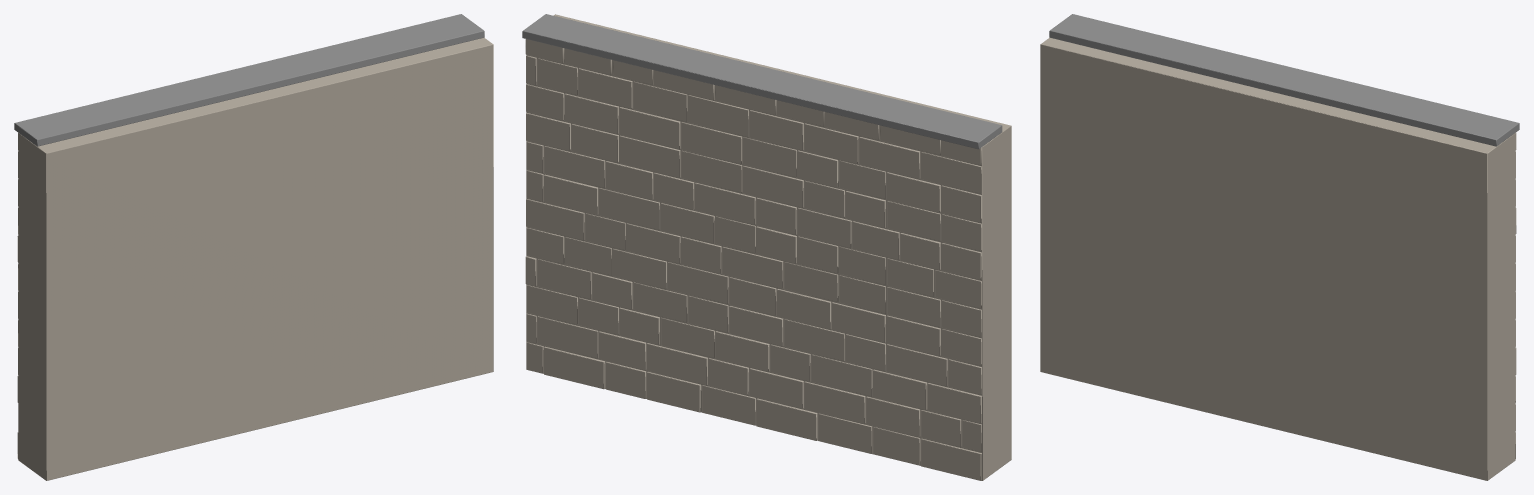
File: SM_VB_QuayWall_10m.fbx
The picture shows the model from 3 angles, left to right: view 1: azimuth 30°, elevation 25°; view 2: azimuth 150°, elevation 25°; view 3: azimuth 330°, elevation 25°; orthographic projection. The views are drawn at different scales.
Visible parts, largest first — view 1: SM_VB_QuayWall_10m; view 2: SM_VB_QuayWall_10m; view 3: SM_VB_QuayWall_10m.
Boxes of the visible parts, x1,y1,x2,y2 form: SM_VB_QuayWall_10m: [14, 14, 493, 480]; SM_VB_QuayWall_10m: [522, 14, 1011, 480]; SM_VB_QuayWall_10m: [1040, 14, 1519, 480].
Size of the model in its own units: 10 by 7.15 by 1.25.
